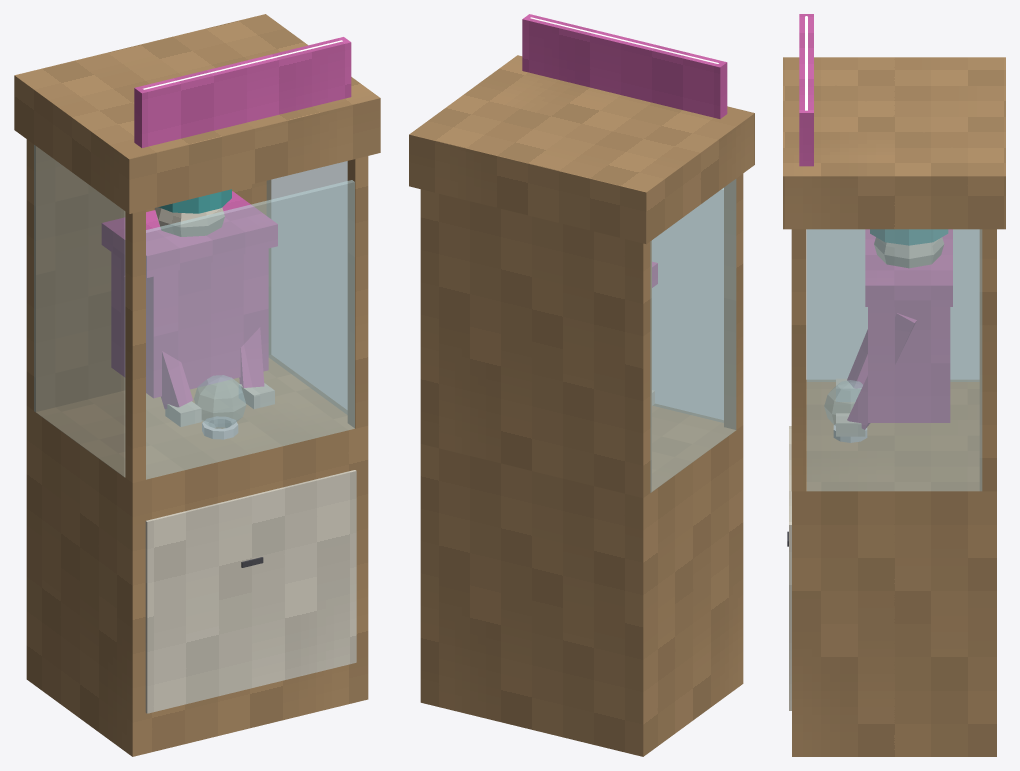
Rendered from three-d-retro-arcade-and-mall-1989-retro-arcade-and-mall-1989-fortune-teller-booth-ad251d2b.glb.
3 renders of one model, left to right at view 1: azimuth 30°, elevation 25°; view 2: azimuth 150°, elevation 25°; view 3: azimuth 270°, elevation 25°, orthographic. The views are drawn at different scales.
Visible parts, largest first — view 1: fortune-teller-booth; view 2: fortune-teller-booth; view 3: fortune-teller-booth.
Boxes of the visible parts, x1=… form: fortune-teller-booth: x1=14, y1=14, x2=380, y2=756; fortune-teller-booth: x1=409, y1=14, x2=754, y2=756; fortune-teller-booth: x1=783, y1=14, x2=1005, y2=756.
Size of the model in its own units: 0.9599 by 2.4 by 0.7601.
8 materials, 5 textured.
